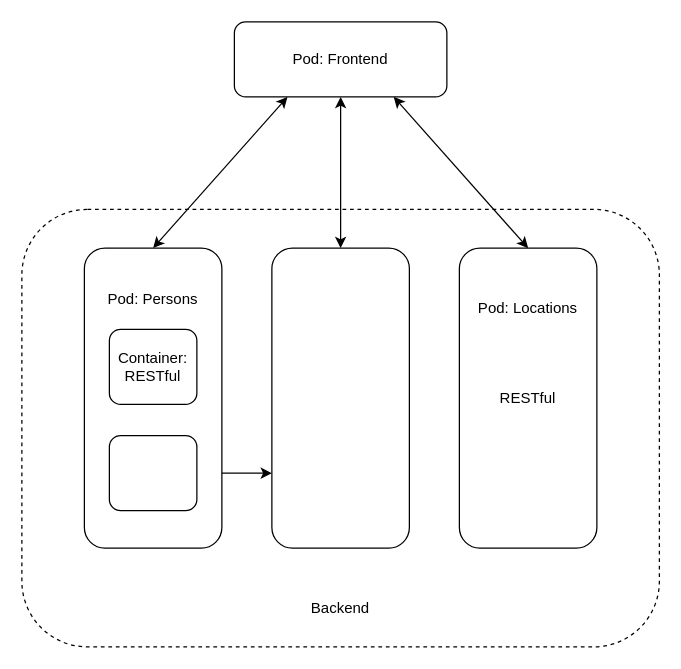
Some shapes in this 681 by 669 pixel diagram are drawn without their labels. Here are the shapes that lost their labels. From the top down, the centre of each, then its label:
(x=340, y=397): Pod: Connection RESTful, gRPC requests to Persons microservice
(x=152, y=472): Container: gRPC server
